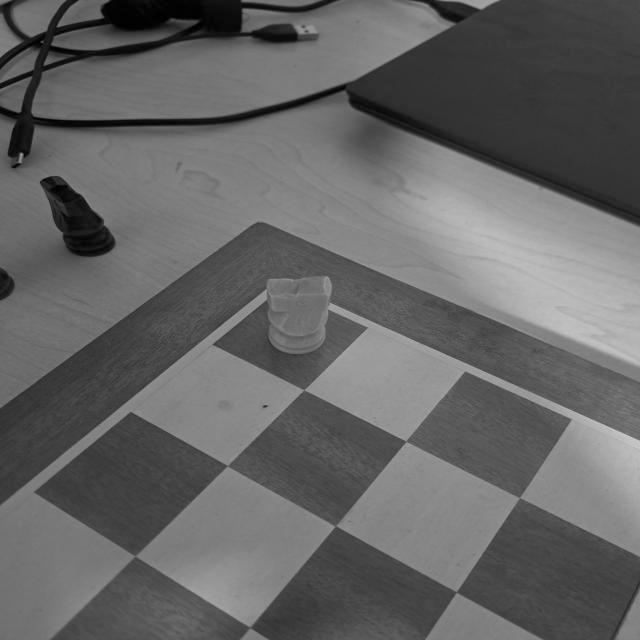chess-table-corners: (226, 272, 348, 319)
